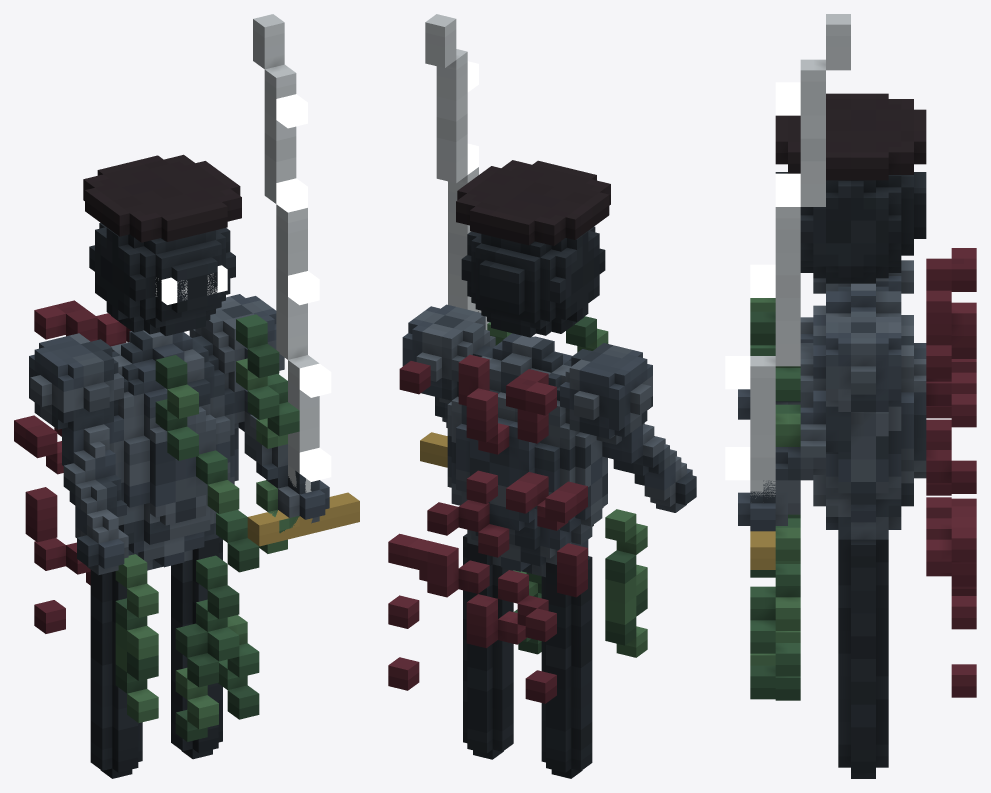
Rendered from u_bretteur.glb.
3 views of the same model, side by side, from view 1: azimuth 30°, elevation 25°; view 2: azimuth 150°, elevation 25°; view 3: azimuth 270°, elevation 25° (orthographic). The views are drawn at different scales.
Parts seen in each view (by area): view 1: bretteur_body, bretteur_weapon, bretteur_weaponglow, bretteur_glow; view 2: bretteur_body, bretteur_weapon, bretteur_weaponglow; view 3: bretteur_body, bretteur_weapon, bretteur_weaponglow.
Boxes of the visible parts, x1,y1,x2,y2 form: bretteur_body: (14, 154, 329, 778); bretteur_weapon: (247, 14, 359, 546); bretteur_weaponglow: (276, 94, 331, 481); bretteur_glow: (156, 265, 227, 304); bretteur_body: (388, 160, 696, 778); bretteur_weapon: (420, 14, 489, 467); bretteur_weaponglow: (467, 61, 478, 174); bretteur_body: (738, 93, 976, 778); bretteur_weapon: (750, 14, 850, 569); bretteur_weaponglow: (725, 82, 800, 480).
Bounding box in the file's own units: 0.675 × 1.73 × 0.5.
